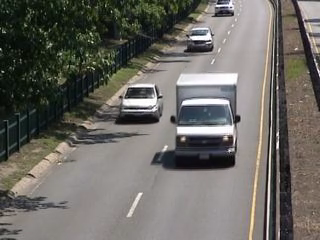car: (118, 81, 163, 122), (183, 26, 216, 55), (214, 1, 237, 18)
truck: (170, 71, 243, 168)
